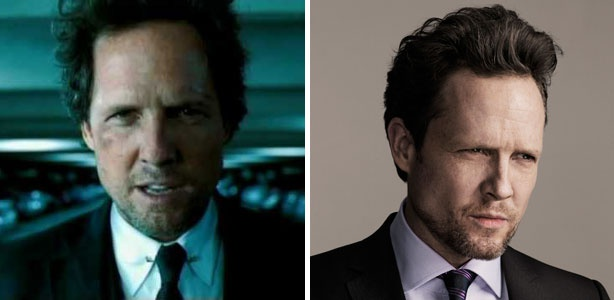bad: (425, 110, 554, 239)
